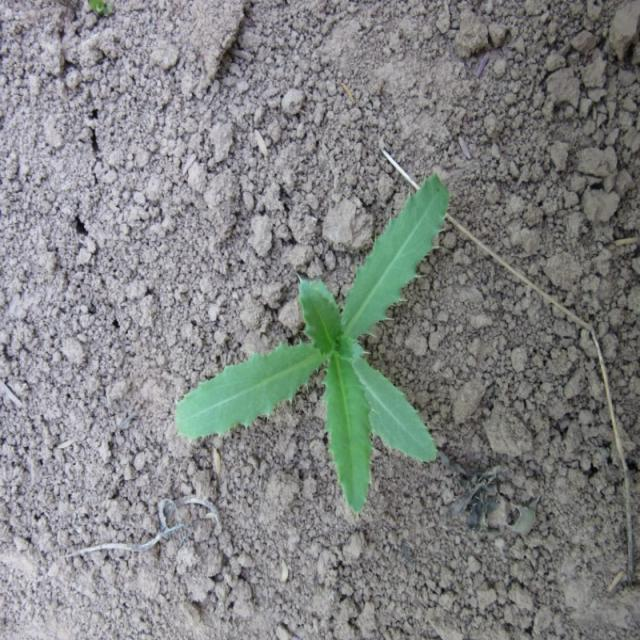cs: (170, 166, 455, 514)
